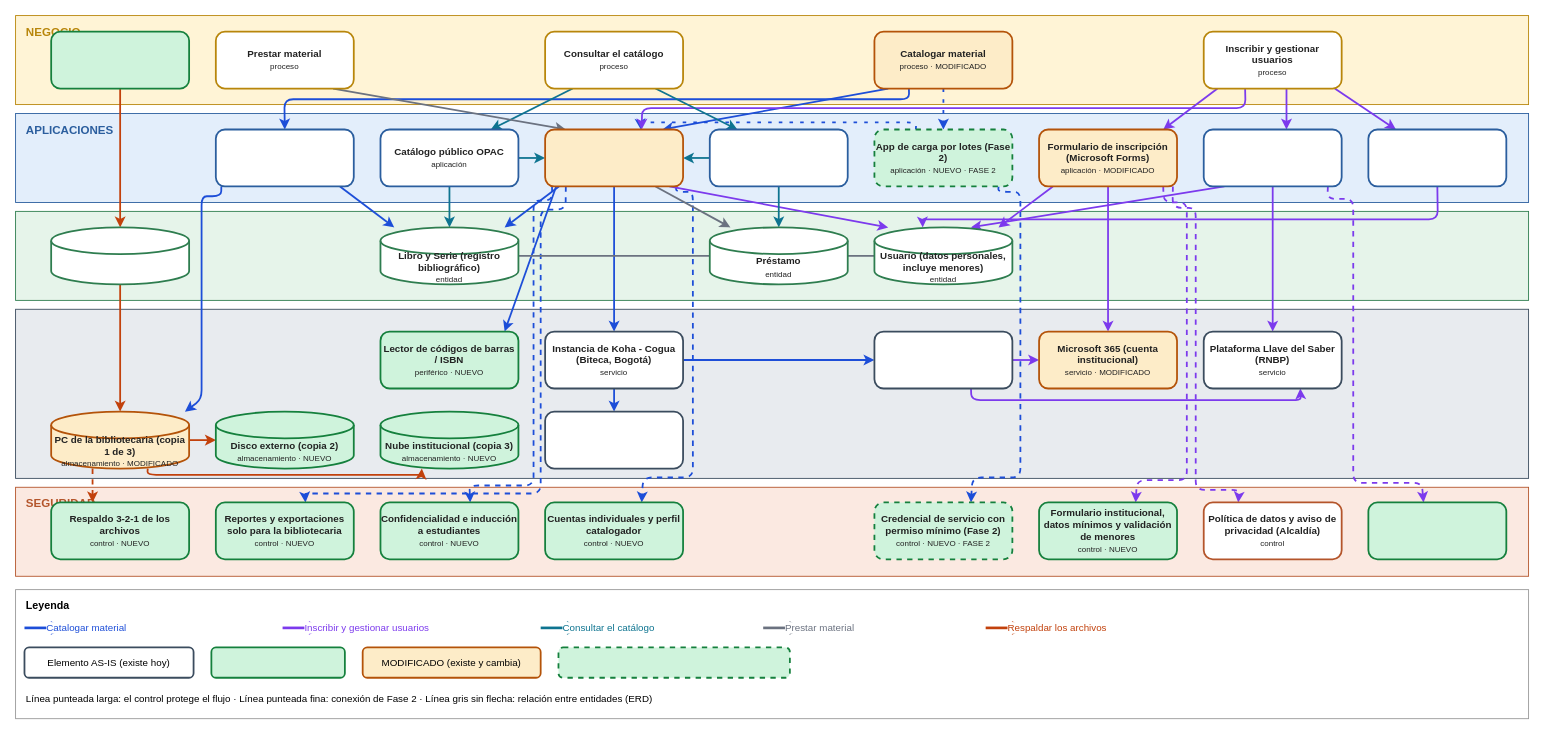
Image size: 1544x739. Some labels were removed from this diagram. The shapes that lost their labels are listed below. From the top down, each one's box as (x1, y1, x2, y2) in pixels, then its label:
(50, 30, 190, 89): Respaldar los archivos capacidad · NUEVO
(214, 128, 354, 187): Hoja de cálculo Excel aplicación
(544, 128, 684, 187): Koha (perfiles admin y catalogador) aplicación · MODIFICADO
(708, 128, 848, 187): App móvil Nextbit aplicación
(1202, 128, 1342, 187): Llave del Saber (formulario web) aplicación
(1367, 128, 1507, 187): Registro físico de usuarios (carpeta) manual · en desuso
(50, 226, 190, 285): Archivos de eventos, talleres y recursos datos
(15, 210, 1529, 300): INFORMACIÓN
(873, 330, 1013, 389): Conexión a internet de la biblioteca servicio
(15, 308, 1529, 478): INFRAESTRUCTURA
(544, 410, 684, 469): Servidores Z39.50 externos servicio
(1367, 501, 1507, 560): Bitácora externa de sesiones en Llave del Saber control · NUEVO
(210, 646, 345, 678): NUEVO (Taller 7)
(557, 646, 790, 678): NUEVO · FASE 2 (condicionado a Biteca)
